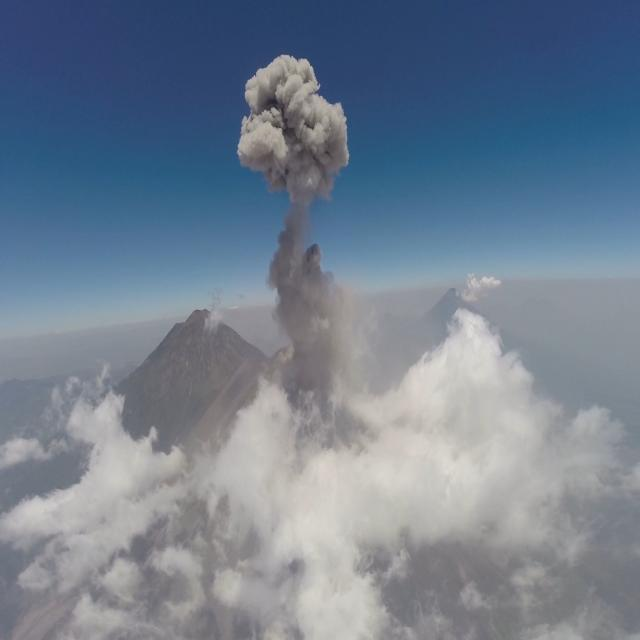Plume: (266, 220, 370, 431), (234, 49, 351, 210)
